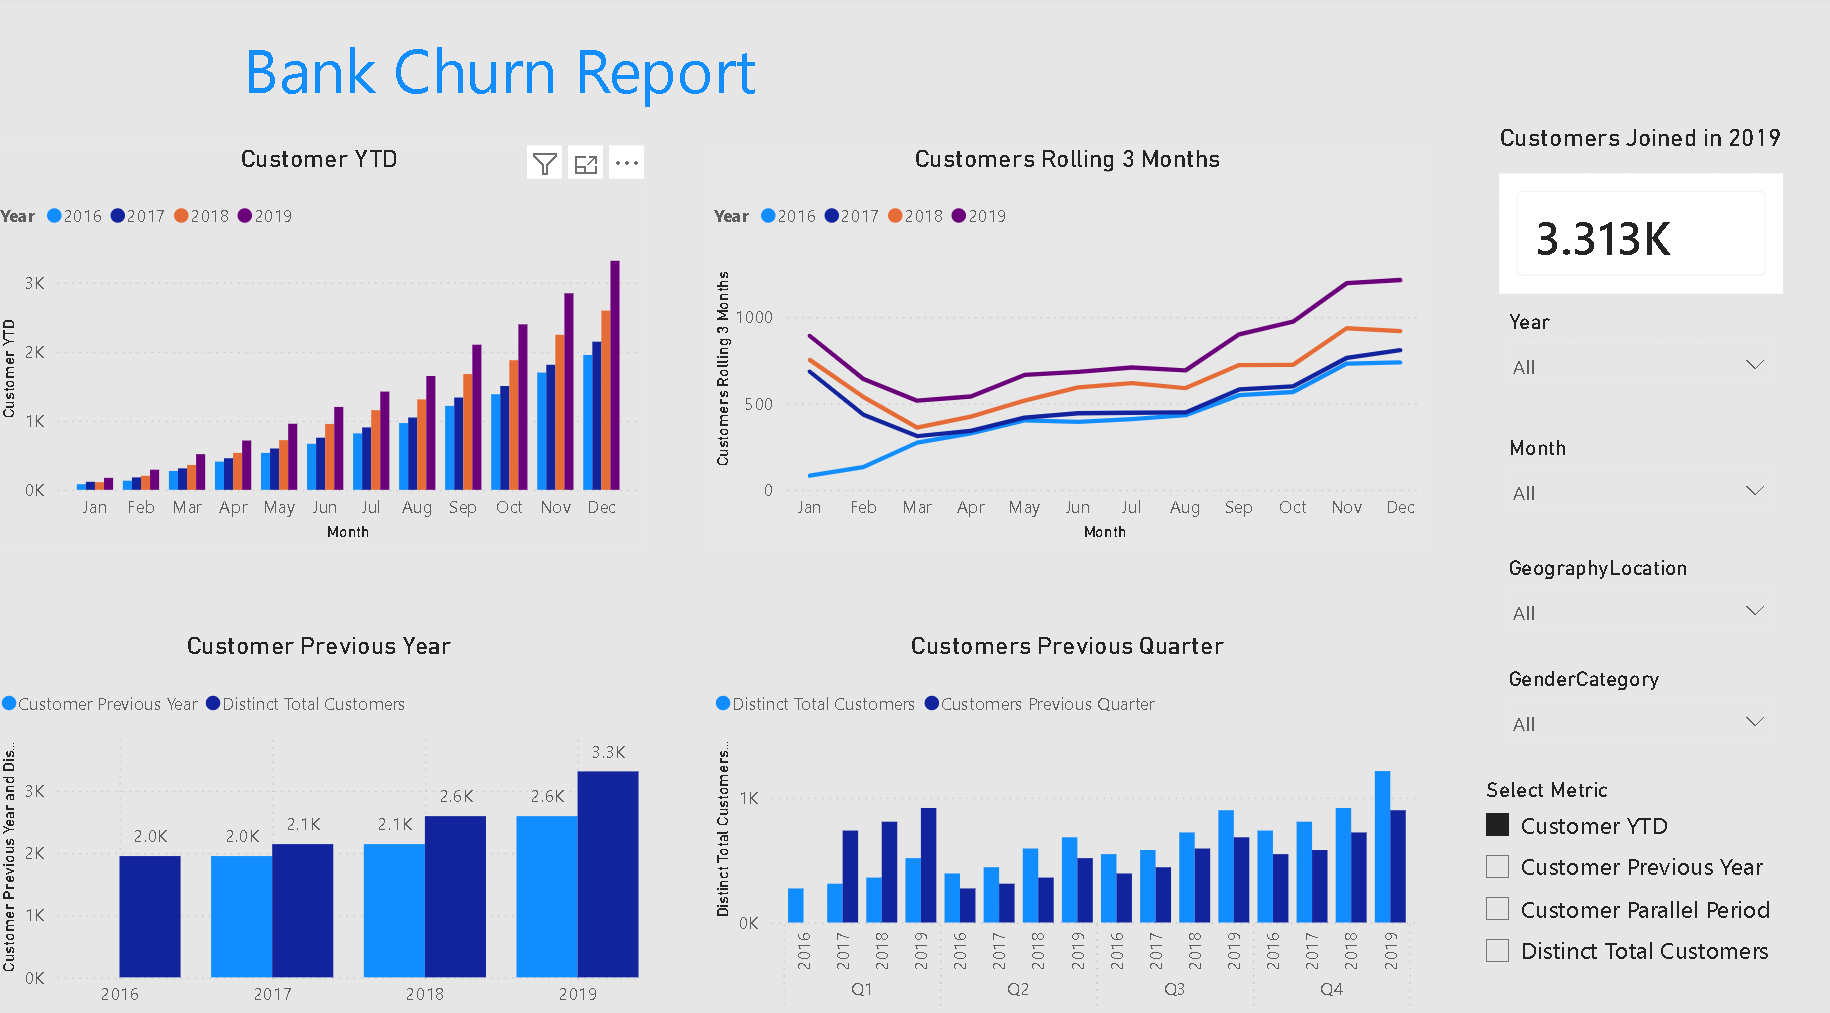

This screenshot's page, from the dashboard's own definition file:
{"tool":"powerbi","page":{"name":"Time Intelligence","canvas":[1280,720],"ordinal":4},"visuals":[{"type":"clusteredColumnChart","title":"Customer Previous Year","fields":{"Category":["Calendar.Year"],"Y":["ActiveCustomer.Customer Previous Year","ActiveCustomer.Distinct Total Customers"]},"box":[0,440.3,452.1,280],"z":0},{"type":"clusteredColumnChart","title":"Customer YTD","fields":{"Y":["ActiveCustomer.Customer YTD"],"Category":["Calendar.Month"],"Series":["Calendar.Year"]},"box":[0,103.3,452,280],"z":1000},{"type":"clusteredColumnChart","title":"Customers Previous Quarter","fields":{"Category":["Calendar.Quarter","Calendar.Year"],"Y":["ActiveCustomer.Distinct Total Customers","ActiveCustomer.Customers Previous Quarter"]},"box":[495.1,440.3,500,280],"z":2000},{"type":"lineChart","title":"Customers Rolling 3 Months","fields":{"Y":["ActiveCustomer.Customers Rolling 3 Months"],"Category":["Calendar.Month"],"Series":["Calendar.Year"]},"box":[494.7,103.3,500,280],"z":3000},{"type":"cardVisual","title":"Customers Joined in 2019","fields":{"Data":["ActiveCustomer.Customers Joined in 2019"]},"box":[1038.3,88.6,207.1,123.8],"z":4000},{"type":"textbox","box":[134.2,16.9,433.8,96.4],"z":5000},{"type":"slicer","fields":{"Values":["Calendar.Year"]},"box":[1037.9,212.9,206.6,57.9],"z":6000},{"type":"slicer","fields":{"Values":["Calendar.Month"]},"box":[1037.9,300.6,206.6,59.5],"z":7000},{"type":"slicer","fields":{"Values":["Geography.GeographyLocation"]},"box":[1037.9,383.5,206.6,76.7],"z":8000},{"type":"slicer","fields":{"Values":["Gender.GenderCategory"]},"box":[1037.9,460.2,206.6,76.7],"z":9000},{"type":"slicer","fields":{"Values":["Select Metric 2.Select Metric"]},"box":[1022.2,536.9,222.3,183.2],"z":10000}]}

Visuals, with their boxes in screenshot pixels (x1, y1, x2, y2), scaled from the page's 1280x720 canvas onto the 1830x1013 screenshot:
"Customer Previous Year" clusteredColumnChart: detection(0, 619, 646, 1012)
"Customer YTD" clusteredColumnChart: detection(0, 145, 646, 539)
"Customers Previous Quarter" clusteredColumnChart: detection(708, 619, 1423, 1012)
"Customers Rolling 3 Months" lineChart: detection(707, 145, 1422, 539)
"Customers Joined in 2019" cardVisual: detection(1484, 125, 1781, 299)
textbox: detection(192, 24, 812, 159)
slicer - Calendar.Year: detection(1484, 300, 1779, 381)
slicer - Calendar.Month: detection(1484, 423, 1779, 507)
slicer - Geography.GeographyLocation: detection(1484, 540, 1779, 647)
slicer - Gender.GenderCategory: detection(1484, 647, 1779, 755)
slicer - Select Metric 2.Select Metric: detection(1461, 755, 1779, 1012)
